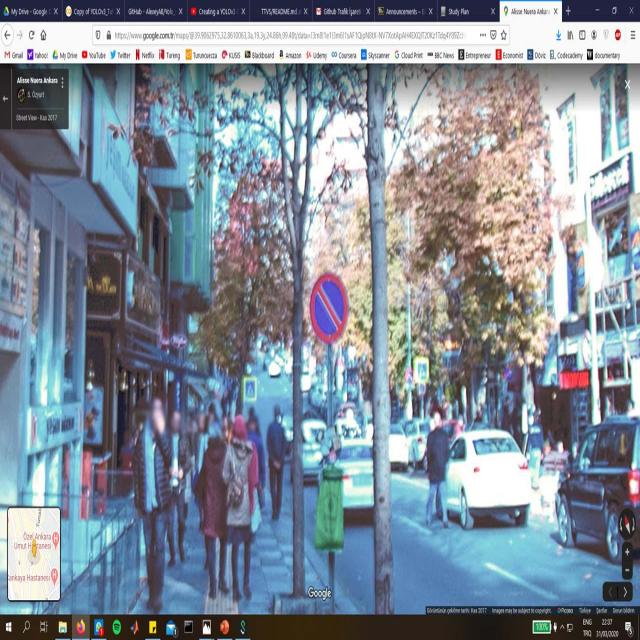parkyasak: (310, 272, 348, 348)
